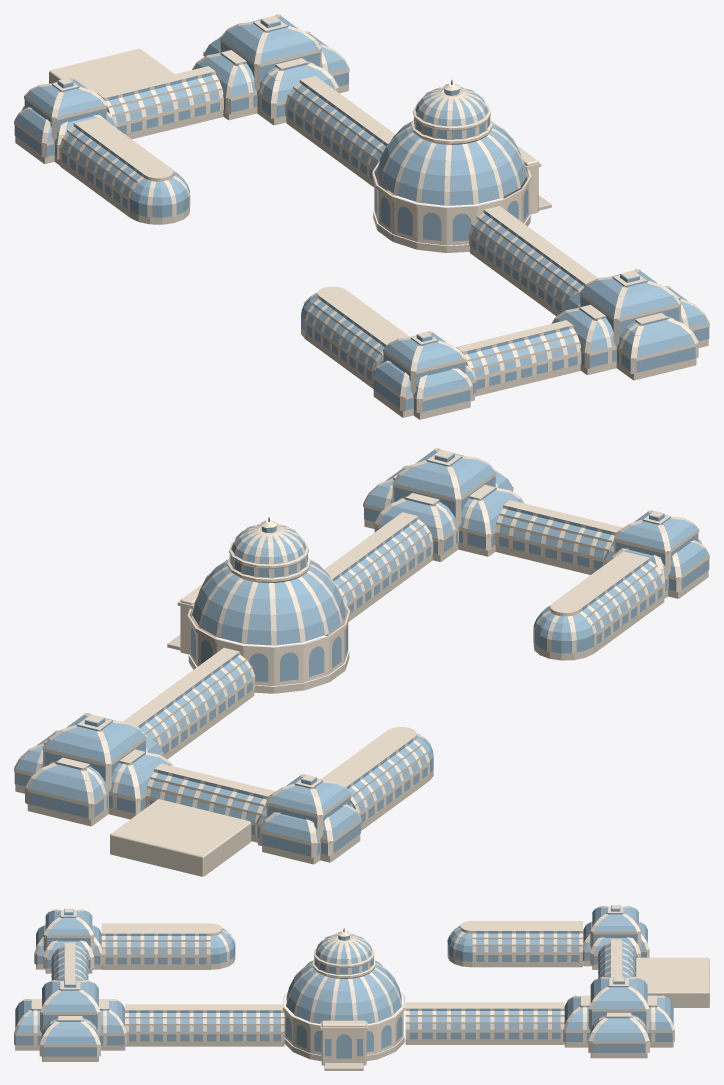
File: nyc-haupt-conservatory.glb
The picture shows the model from 3 angles, top to bottom: view 1: azimuth 30°, elevation 25°; view 2: azimuth 150°, elevation 25°; view 3: azimuth 270°, elevation 25°; orthographic projection. The views are drawn at different scales.
Visible parts, largest first — view 1: Enid A. Haupt Conservatory; view 2: Enid A. Haupt Conservatory; view 3: Enid A. Haupt Conservatory.
Part boxes in pixels (box(x1,y1,x2,y2)): Enid A. Haupt Conservatory: box(14, 14, 709, 419); Enid A. Haupt Conservatory: box(14, 448, 709, 876); Enid A. Haupt Conservatory: box(14, 905, 709, 1070).
Size of the model in its own units: 70.68 by 28 by 161.
